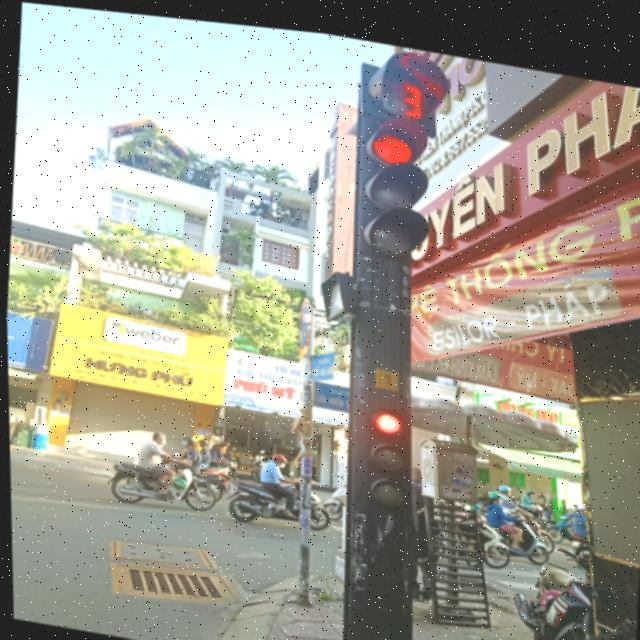Red: (348, 100, 434, 265), (343, 383, 419, 512)
